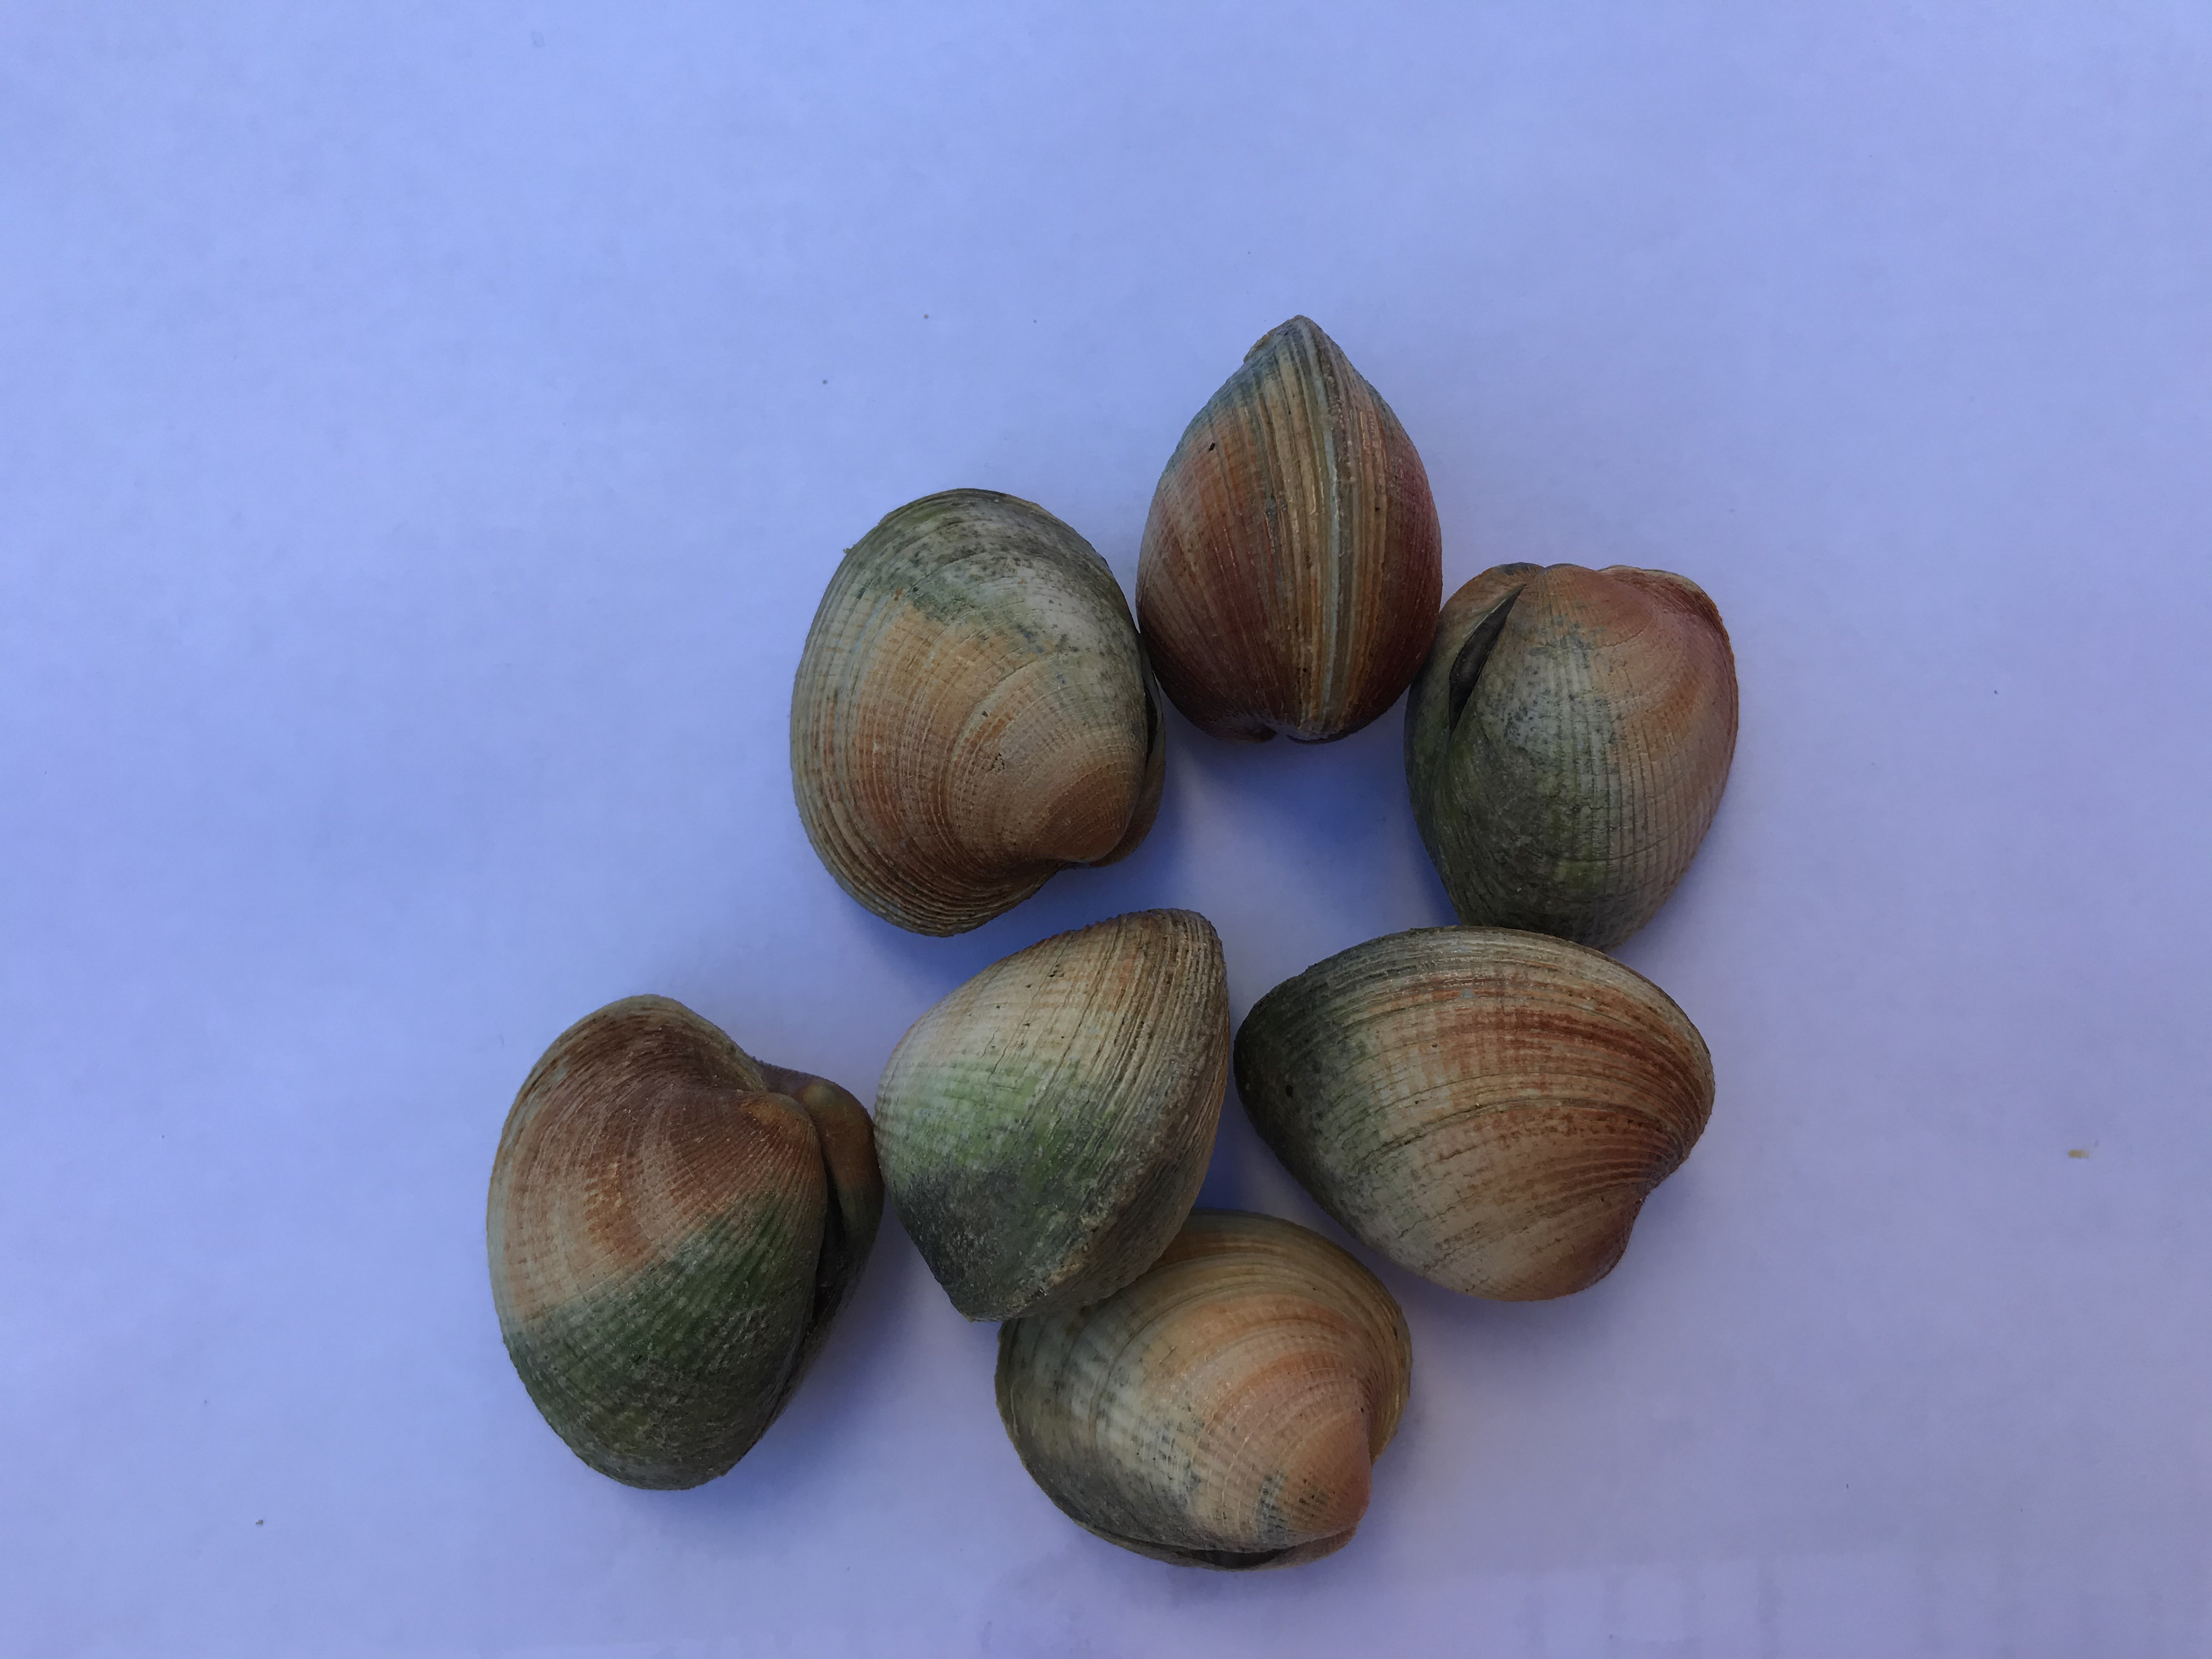cockle: (481, 992, 888, 1490), (1231, 910, 1730, 1309), (782, 481, 1170, 941), (982, 1213, 1426, 1574), (866, 903, 1238, 1326), (1129, 314, 1451, 753), (1404, 554, 1749, 962)
